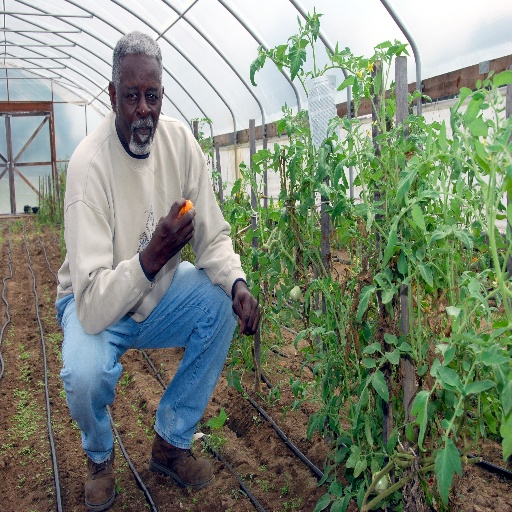hand: (149, 194, 195, 266), (228, 278, 261, 345)
